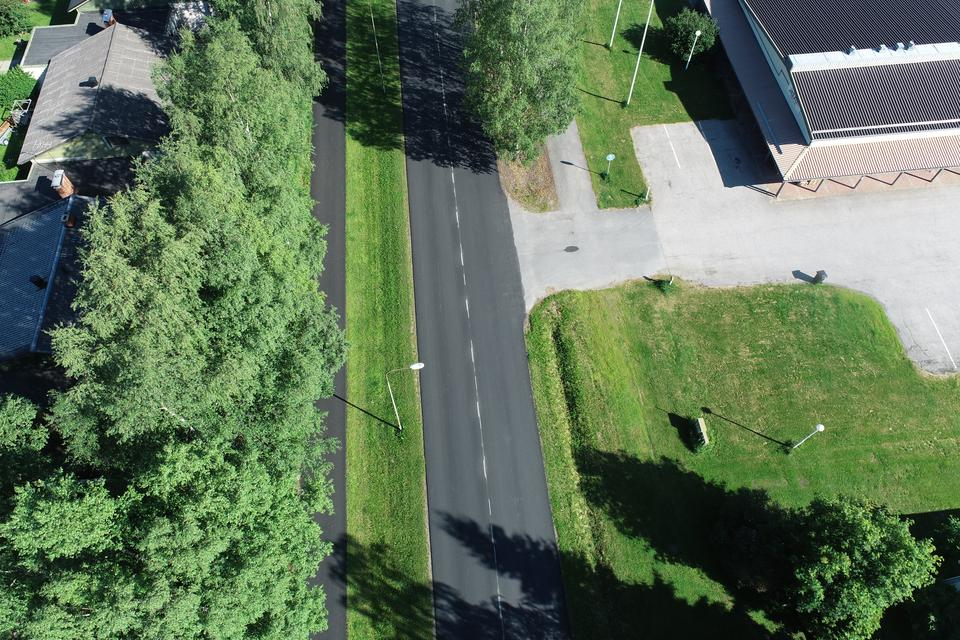intersection: (377, 182, 633, 332)
